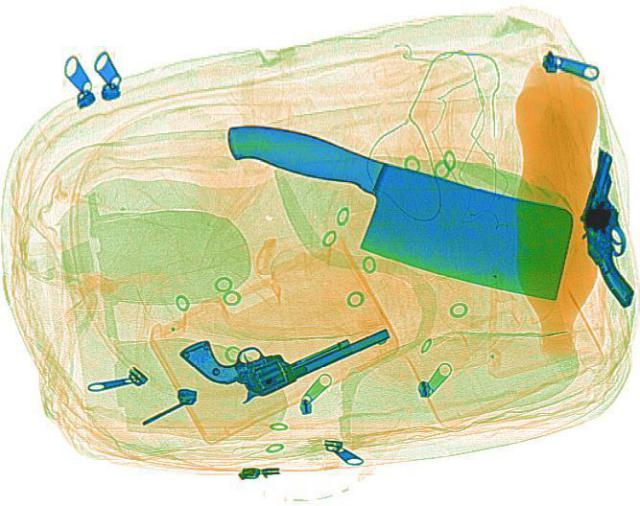Gun: (171, 285, 397, 410), (577, 147, 633, 307)
Knife: (188, 113, 596, 303)
